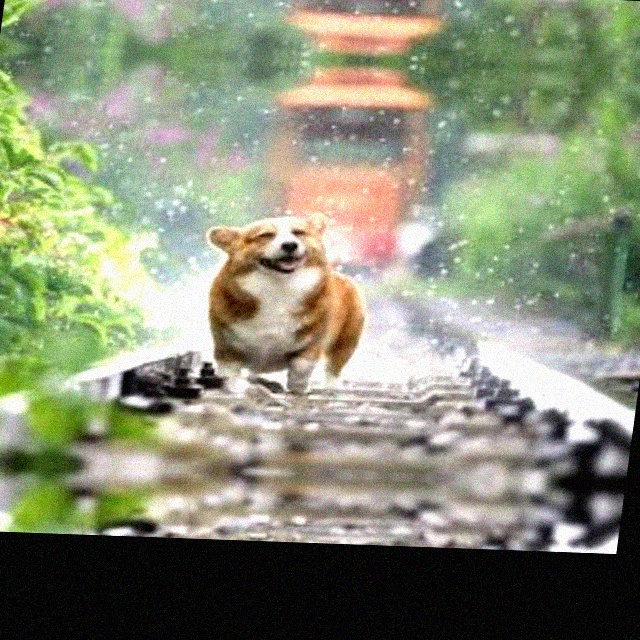dog: (181, 199, 391, 398)
